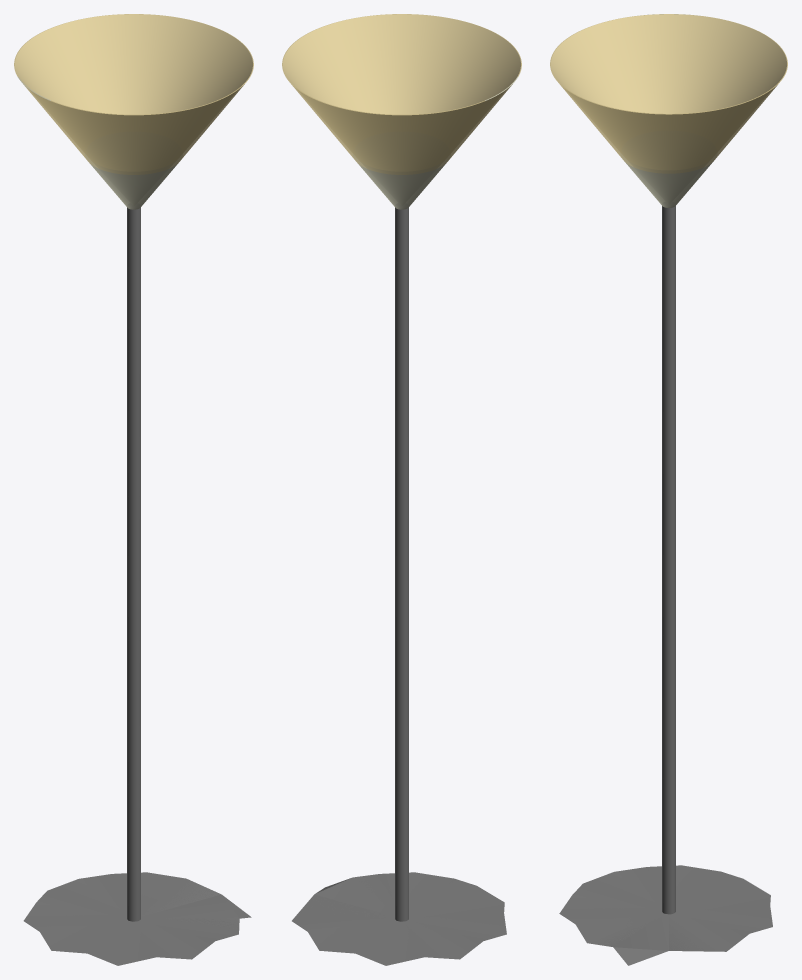
The model's file is IKEA-KROBY_Lampadaire_Variante_2-3D.FBX.
The picture shows the model from 3 angles, left to right: view 1: azimuth 30°, elevation 25°; view 2: azimuth 150°, elevation 25°; view 3: azimuth 270°, elevation 25°; orthographic projection.
Visible parts, largest first — view 1: Rectangle002; view 2: Rectangle002; view 3: Rectangle002.
Boxes of the visible parts, x1,y1,x2,y2 form: Rectangle002: [14, 14, 253, 965]; Rectangle002: [282, 14, 521, 965]; Rectangle002: [550, 14, 787, 965].
Size of the model in its own units: 0.5119 by 0.5119 by 2.03.
